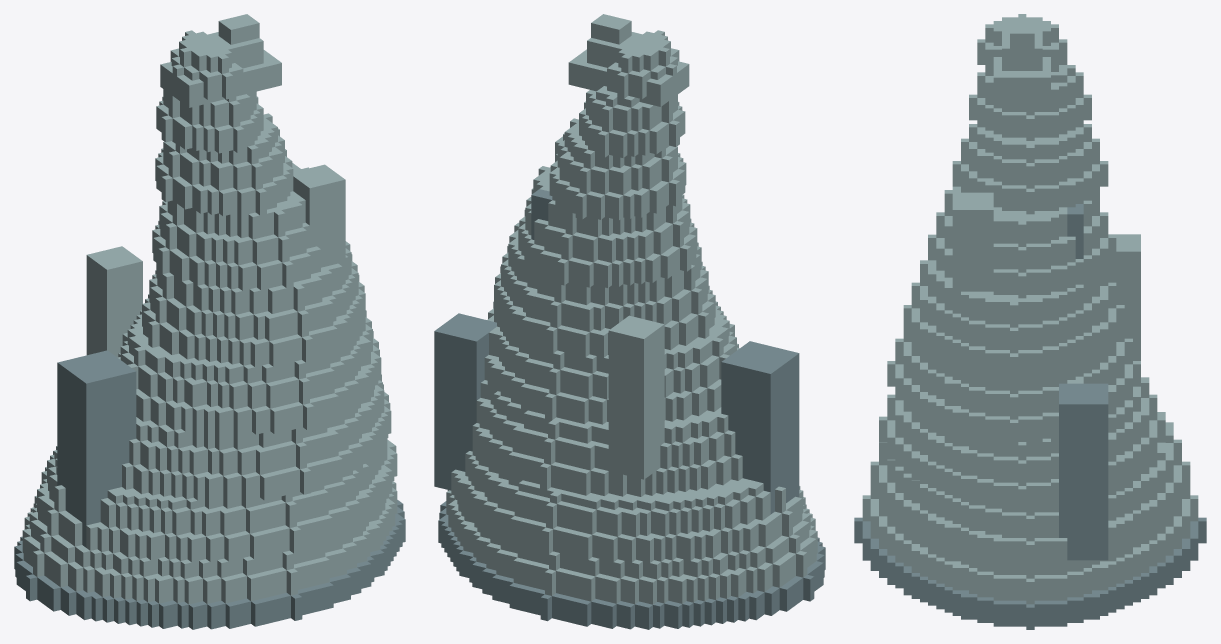
File: crag_breakable.glb
3 views of the same model, side by side, from view 1: azimuth 30°, elevation 25°; view 2: azimuth 150°, elevation 25°; view 3: azimuth 270°, elevation 25° (orthographic).
Visible parts, largest first — view 1: CragBreakableSurface; view 2: CragBreakableSurface; view 3: CragBreakableSurface.
Part boxes in pixels (box(x1,y1,x2,y2)): CragBreakableSurface: box(14, 14, 405, 629); CragBreakableSurface: box(434, 14, 825, 629); CragBreakableSurface: box(854, 14, 1206, 629).
Size of the model in its own units: 6.38 by 8.88 by 5.38.
